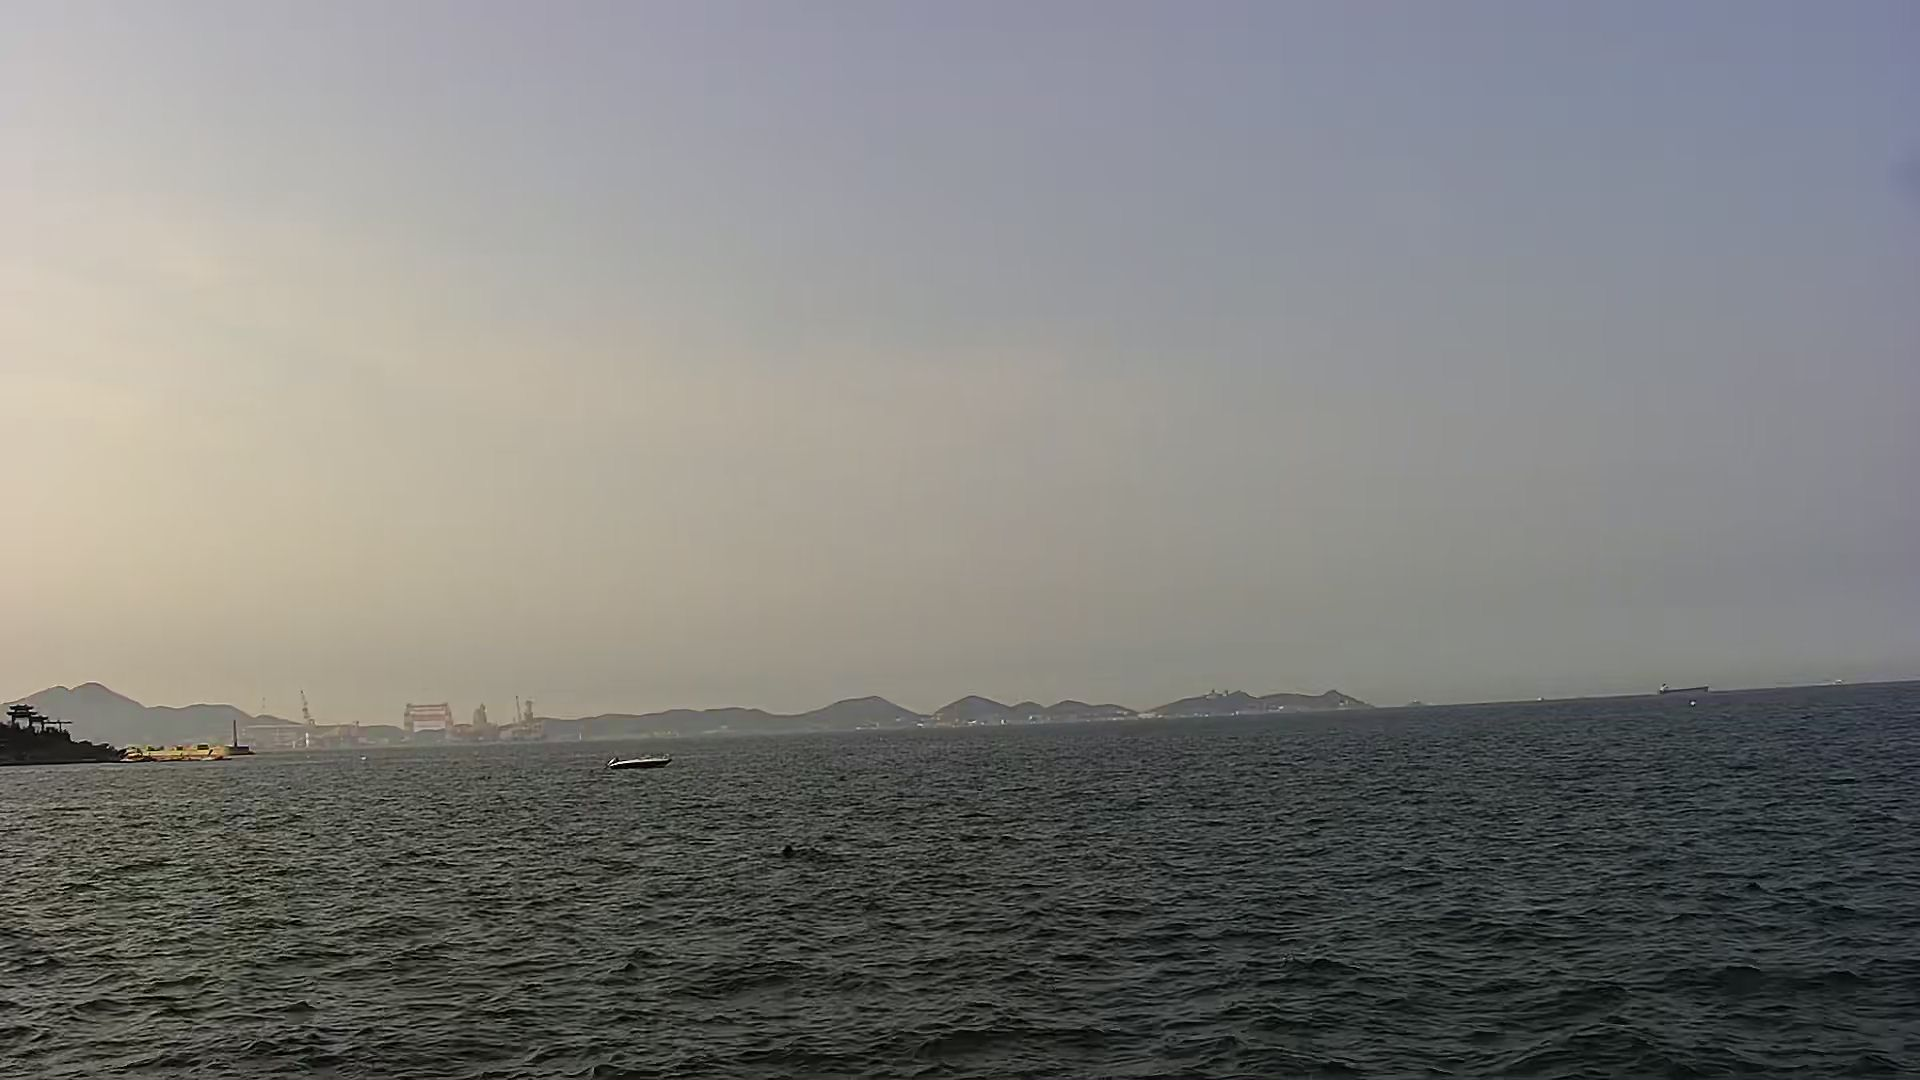boat: (613, 745, 680, 777)
